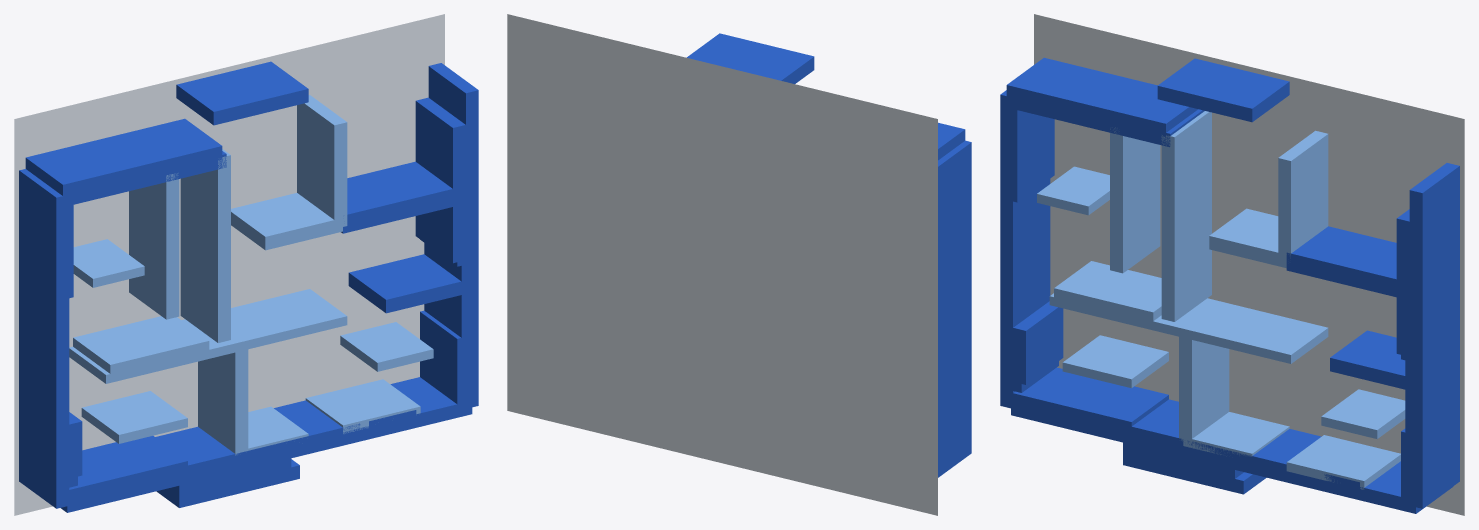
File: 43126293-66e0-4c90-adcb-f05313069ad4.obj
3 renders of one model, left to right at view 1: azimuth 30°, elevation 25°; view 2: azimuth 150°, elevation 25°; view 3: azimuth 330°, elevation 25°, orthographic.
Size of the model in its own units: 20 by 17.6 by 3.05.
